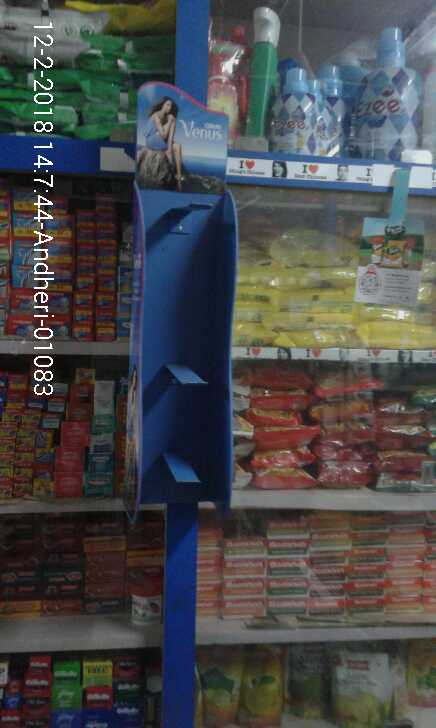reject: (144, 195, 242, 459)
